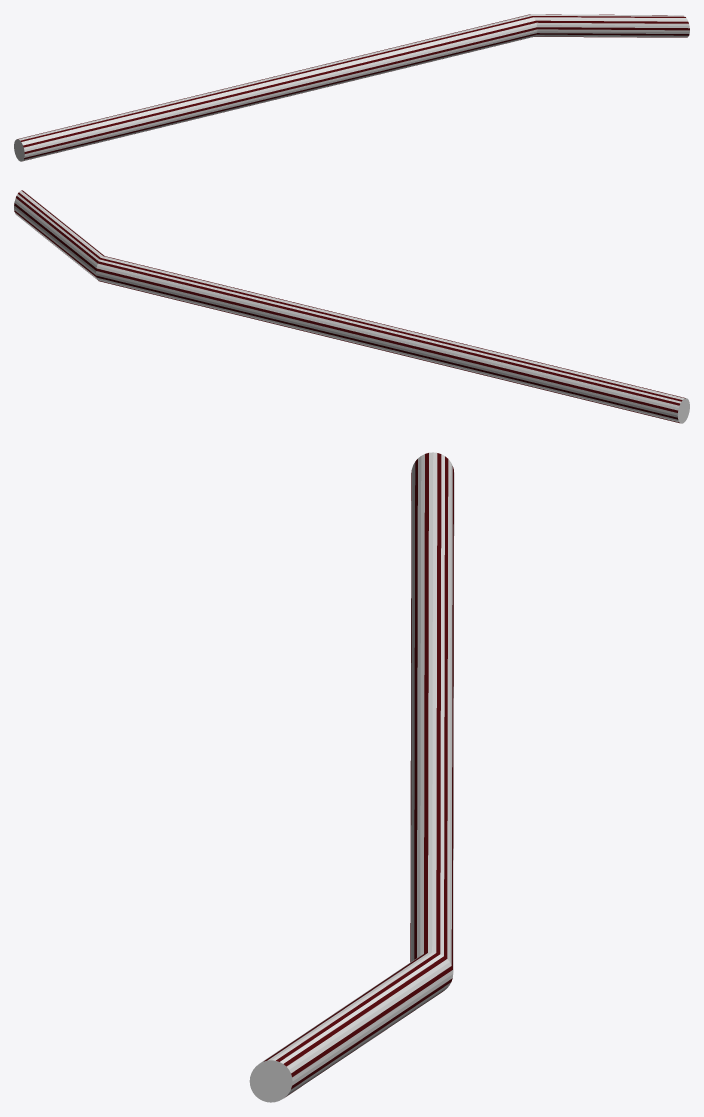
The model's file is straw.dae.
3 renders of one model, top to bottom at view 1: azimuth 30°, elevation 25°; view 2: azimuth 150°, elevation 25°; view 3: azimuth 270°, elevation 25°, orthographic. The views are drawn at different scales.
Visible parts, largest first — view 1: straw; view 2: straw; view 3: straw.
Part boxes in pixels (<box>): straw: <box>14,14,689,161</box>; straw: <box>14,190,689,423</box>; straw: <box>249,452,454,1102</box>.
Bounding box in the file's own units: 3.03 × 0.1027 × 0.4295.
